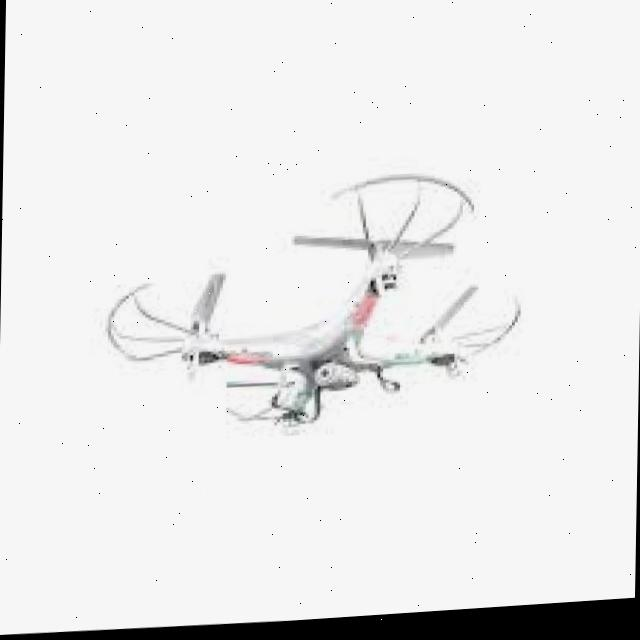drone: (90, 151, 554, 461)
